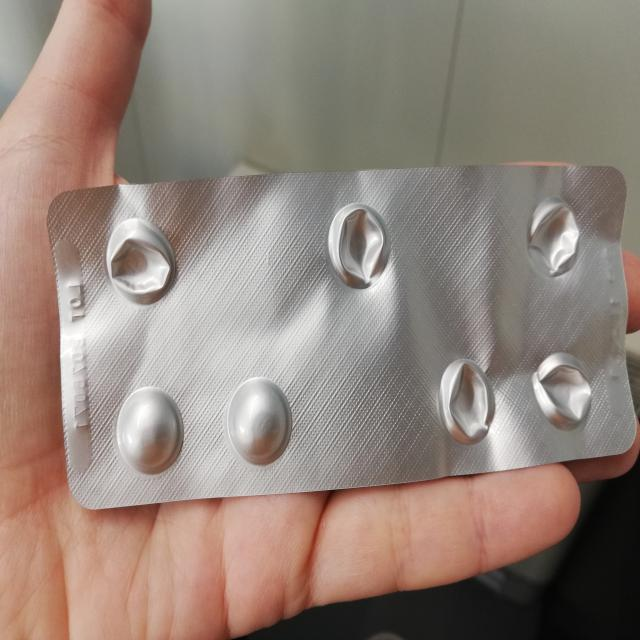Empty: (98, 211, 182, 309), (526, 346, 600, 435), (435, 354, 504, 448), (325, 198, 391, 293), (522, 191, 587, 278)
Pill: (110, 379, 190, 482), (224, 370, 298, 470)
